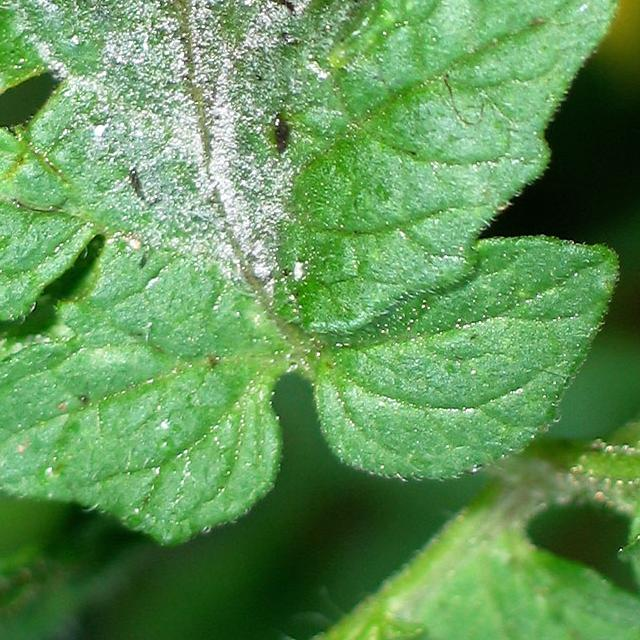Tomato leaf late blight: (0, 0, 608, 545)
